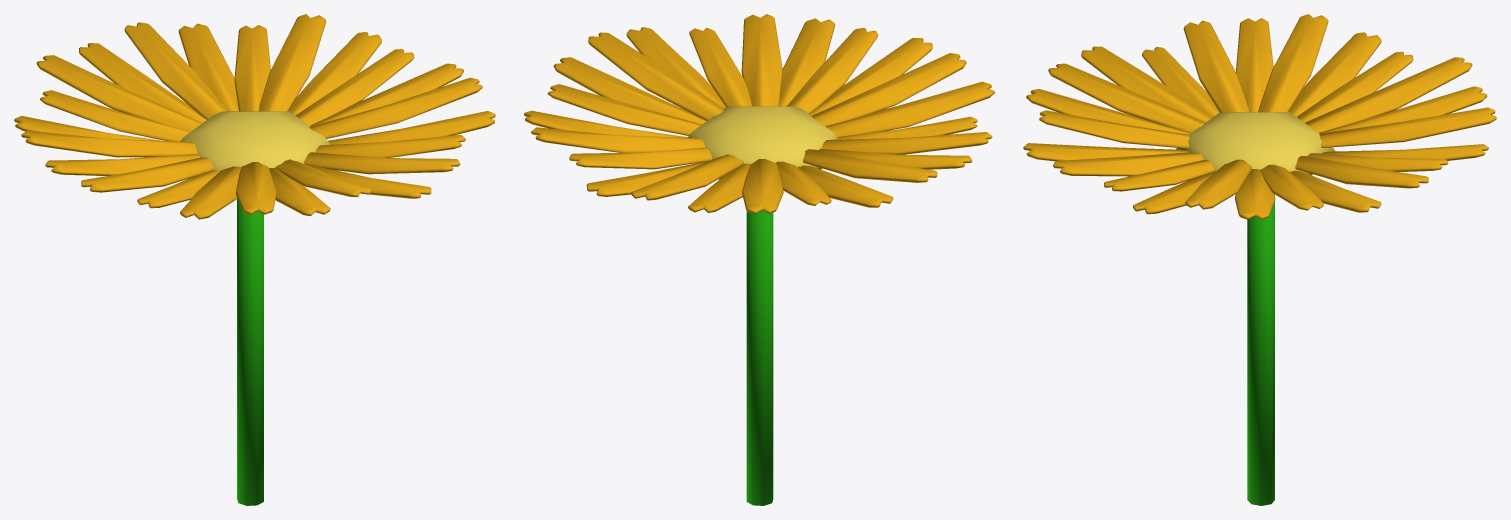
File: YellowFlower.fbx
The picture shows the model from 3 angles, left to right: view 1: azimuth 30°, elevation 25°; view 2: azimuth 150°, elevation 25°; view 3: azimuth 270°, elevation 25°; orthographic projection.
Visible parts, largest first — view 1: Plane.007; view 2: Plane.007; view 3: Plane.007.
Boxes of the visible parts, bbox=[...] form: Plane.007: bbox=[14, 14, 495, 505]; Plane.007: bbox=[524, 14, 994, 505]; Plane.007: bbox=[1023, 14, 1496, 505].
Bounding box in the file's own units: 34.66 × 31.72 × 34.83.
